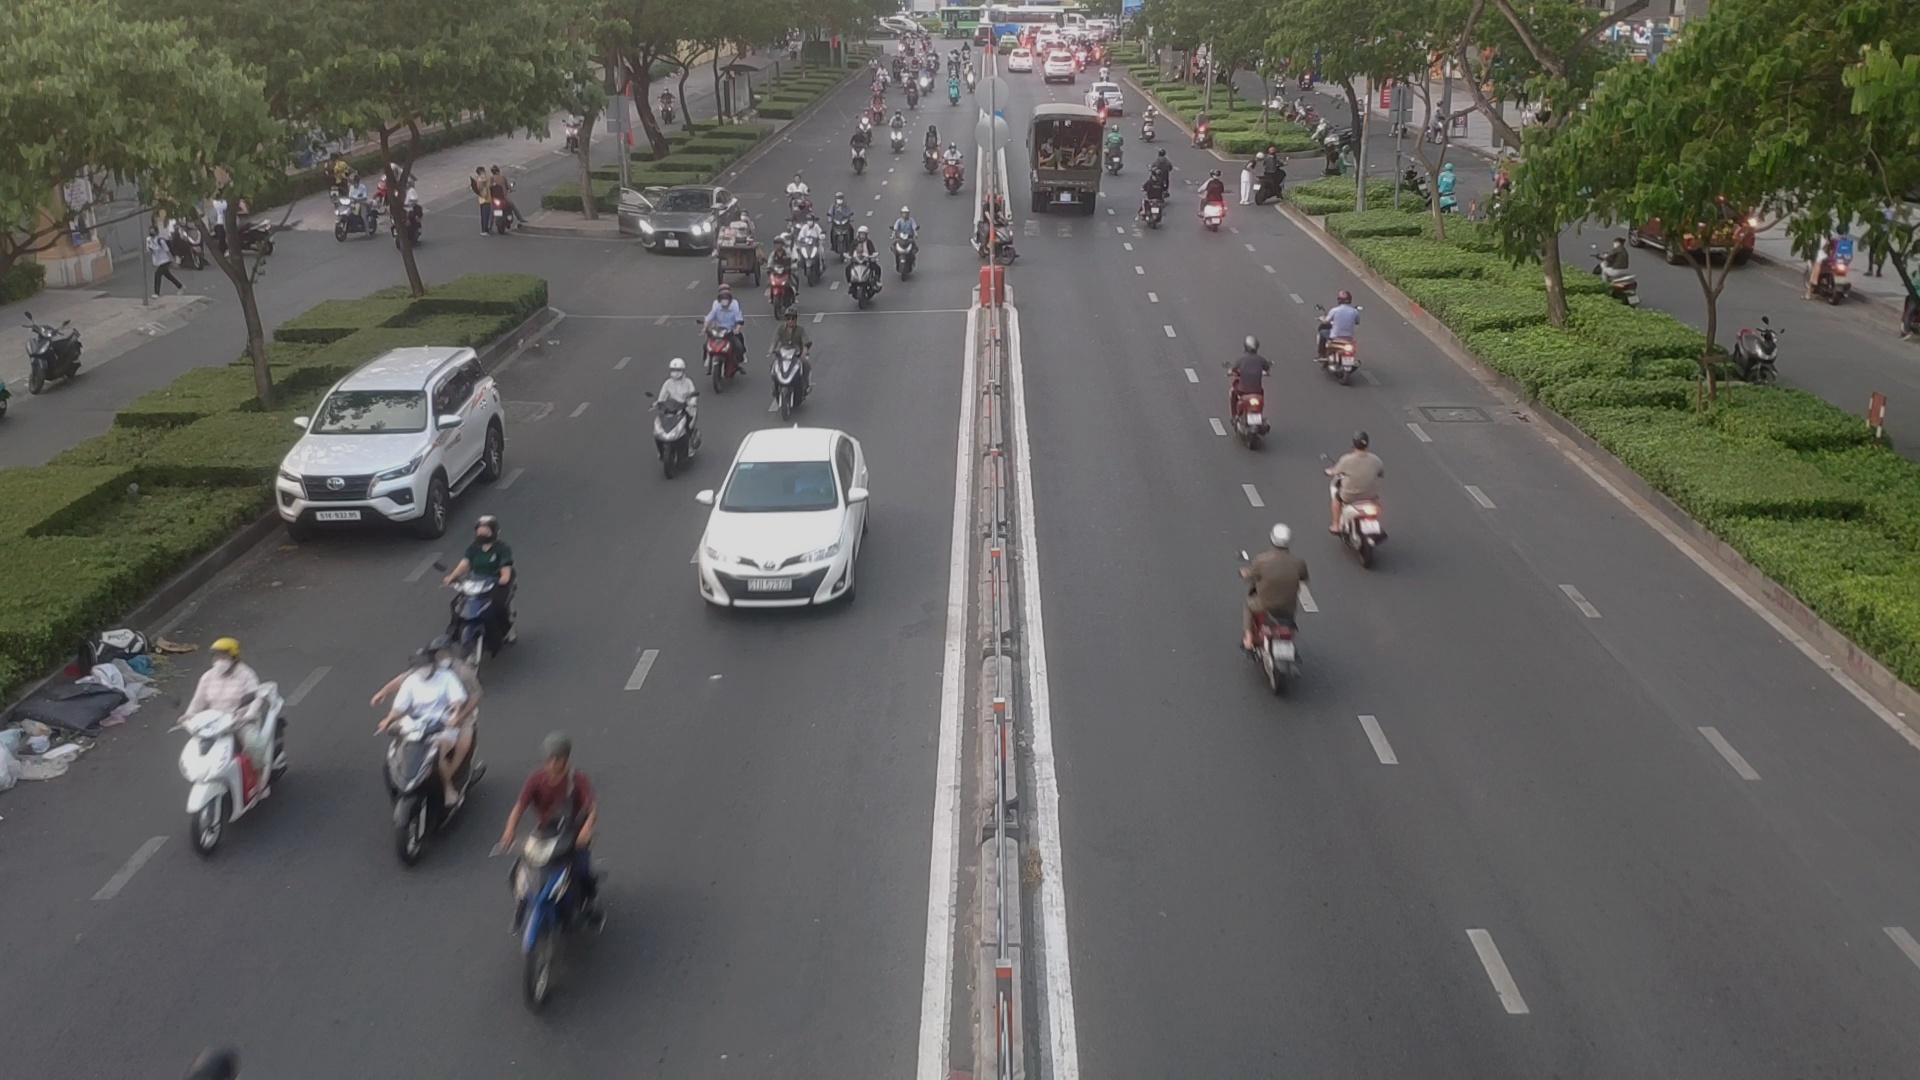car: (277, 343, 522, 530), (688, 429, 880, 605), (615, 193, 736, 261)
motorbike: (169, 658, 301, 847), (371, 657, 483, 804), (1230, 527, 1325, 683), (440, 524, 529, 644), (1315, 431, 1395, 558), (641, 367, 703, 468), (1221, 344, 1276, 444), (770, 316, 825, 404), (698, 293, 752, 378), (1317, 291, 1371, 375), (887, 212, 920, 277), (1193, 178, 1226, 233), (825, 199, 858, 244), (1141, 182, 1170, 228), (942, 150, 969, 196), (916, 137, 947, 175), (884, 119, 909, 154)
